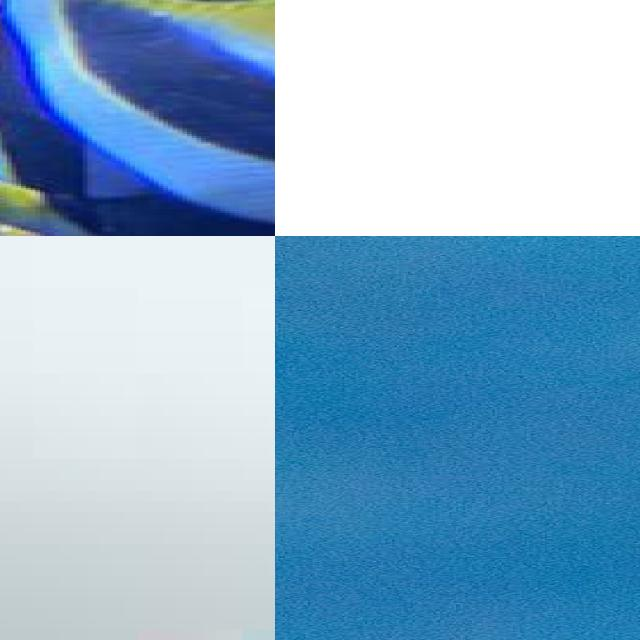fish: (321, 236, 640, 640), (0, 384, 275, 640), (0, 0, 275, 236)
